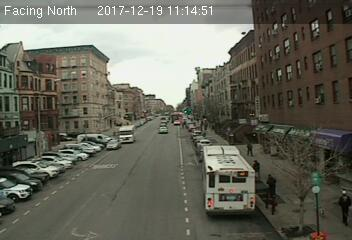bus: (200, 145, 257, 216)
car: (105, 139, 119, 150)
truck: (120, 125, 135, 143)
